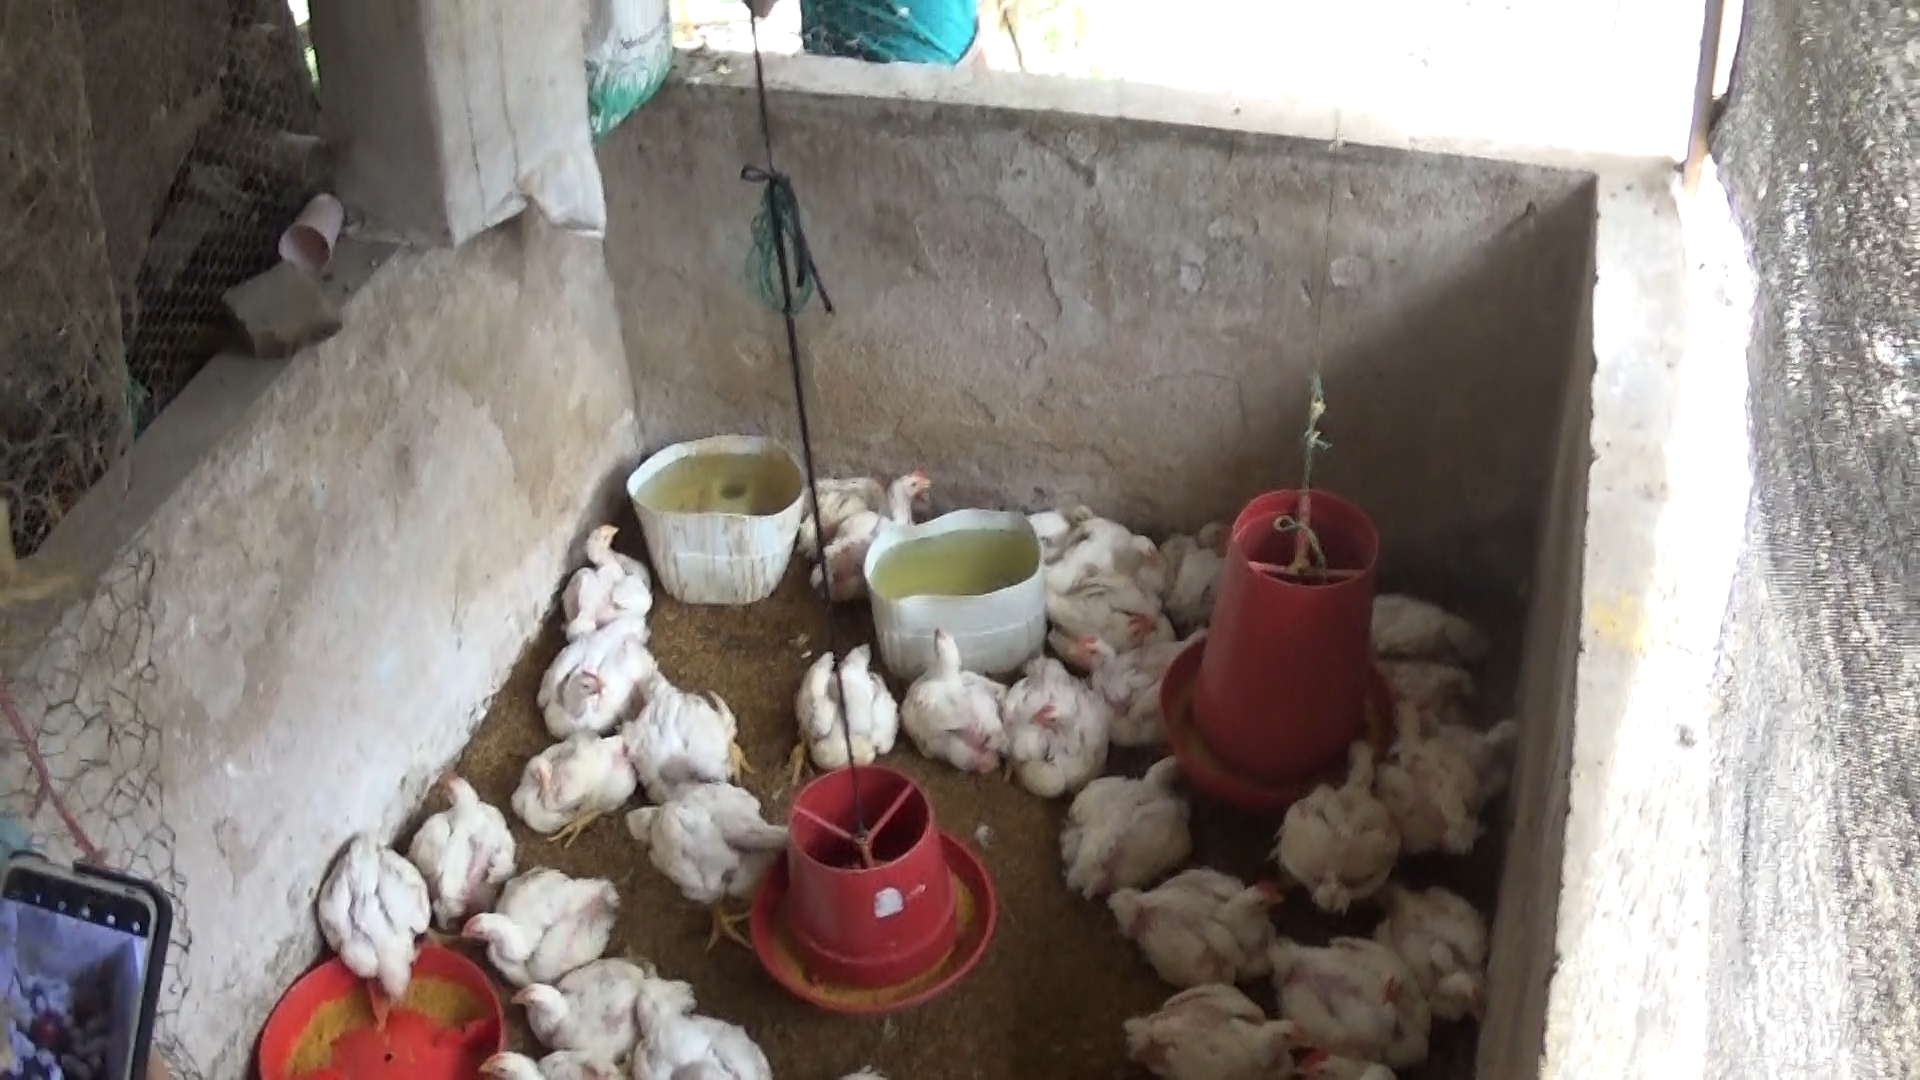Pollos: (616, 777, 800, 945), (1273, 733, 1408, 909), (1261, 916, 1429, 1056), (1113, 861, 1294, 992), (306, 829, 429, 1011), (456, 857, 622, 986), (1058, 746, 1199, 891), (522, 611, 655, 753), (1126, 977, 1309, 1080), (1382, 680, 1490, 843), (905, 622, 1017, 771), (615, 978, 783, 1077), (1389, 873, 1495, 1029), (807, 469, 936, 596), (997, 647, 1102, 798), (1073, 622, 1204, 744), (498, 723, 634, 839), (786, 645, 898, 785), (502, 949, 651, 1054), (636, 684, 757, 812), (407, 766, 512, 911), (550, 518, 655, 633), (1360, 578, 1494, 662), (1040, 571, 1168, 651), (1034, 506, 1168, 575), (1284, 1029, 1400, 1080), (469, 1042, 616, 1080)
